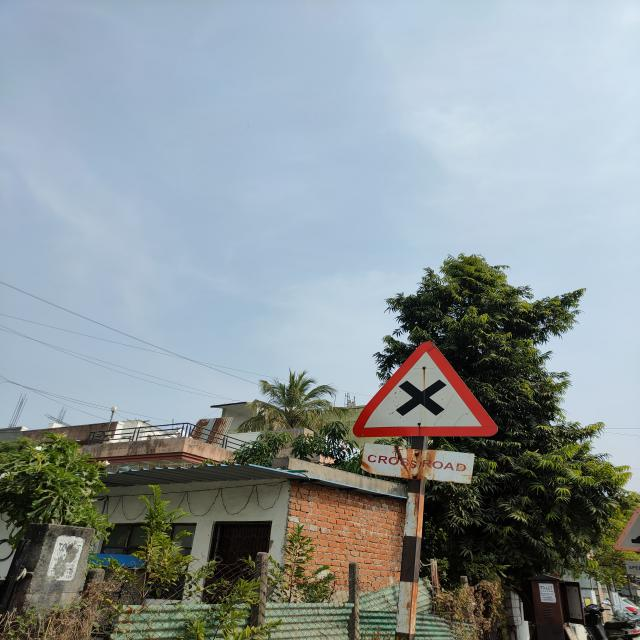CROSS_ROAD: (345, 339, 504, 443)
